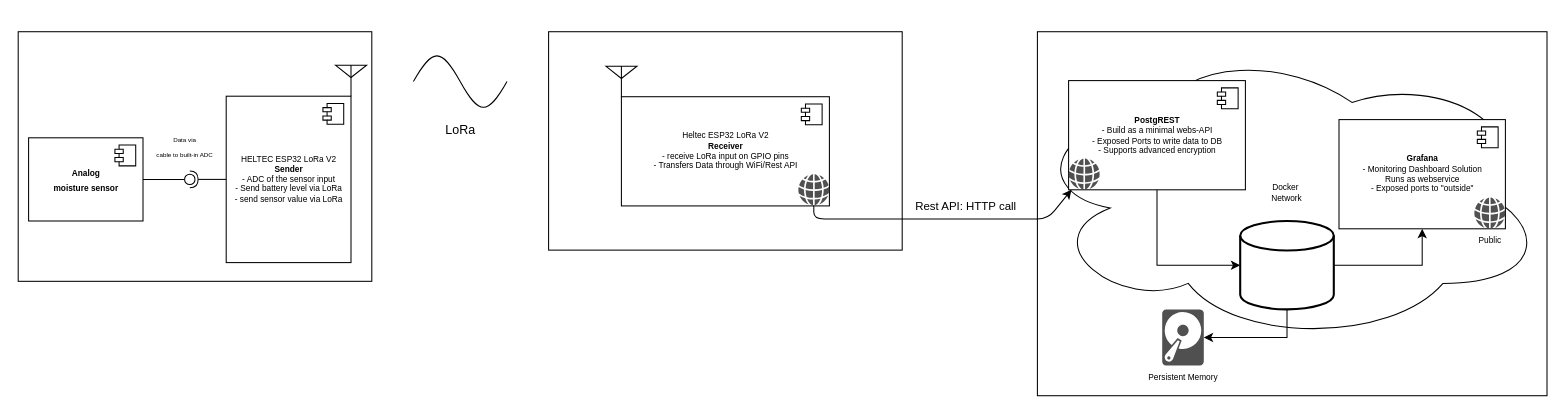
The diagram is 1565 pixels wide and 414 high, and some of its shapes have lost their labels. Each missing label, with the box of its shape:
Host: (1036, 31, 1547, 396)
IoT (edge): (17, 31, 372, 281)
IoT (Hub/Gateway): (548, 31, 902, 250)
PostGres DB: (1239, 219, 1334, 310)
